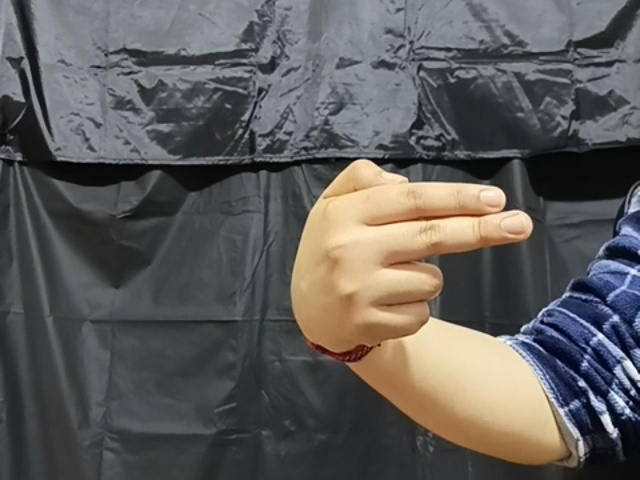H: (280, 155, 536, 369)
